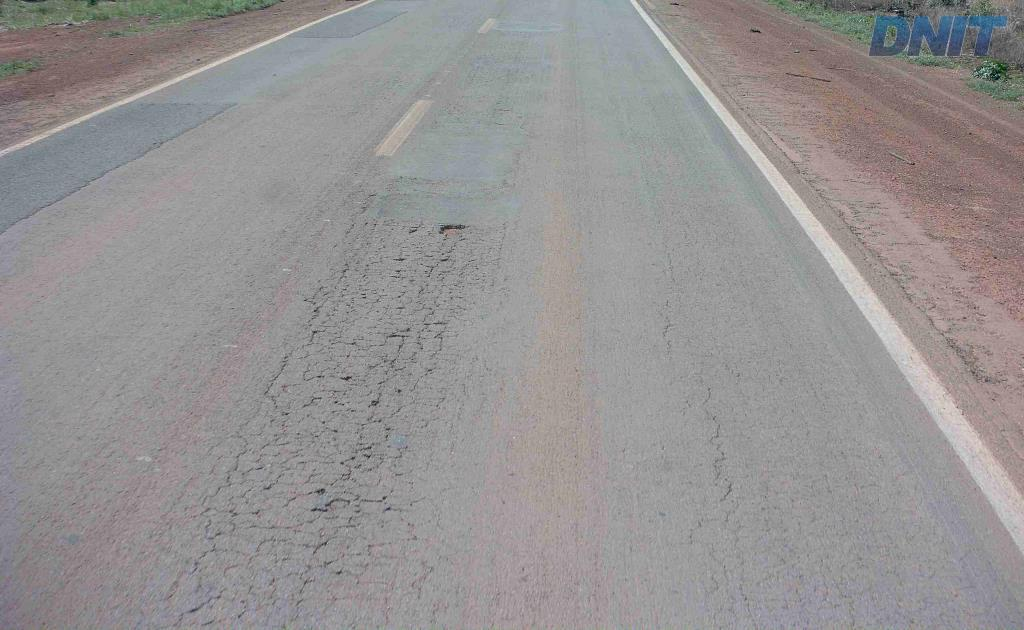crack: (361, 323, 419, 408), (301, 299, 376, 353), (325, 443, 408, 488), (411, 240, 475, 291), (302, 484, 387, 513), (412, 300, 450, 360)
pothole: (435, 222, 468, 238)
